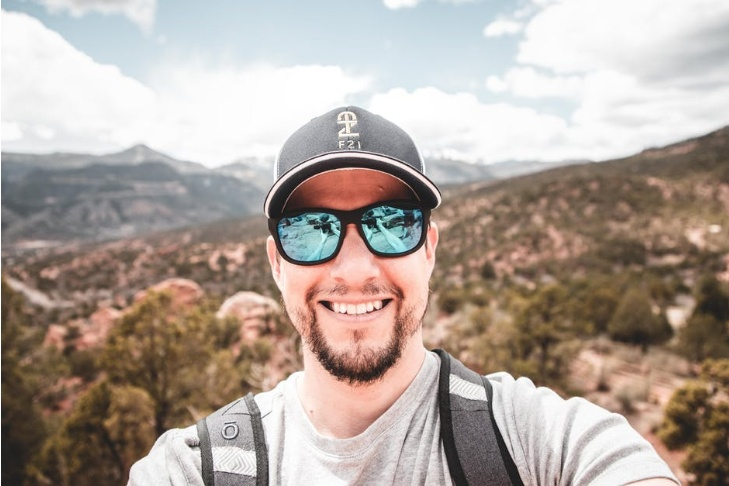face: (272, 168, 429, 378)
